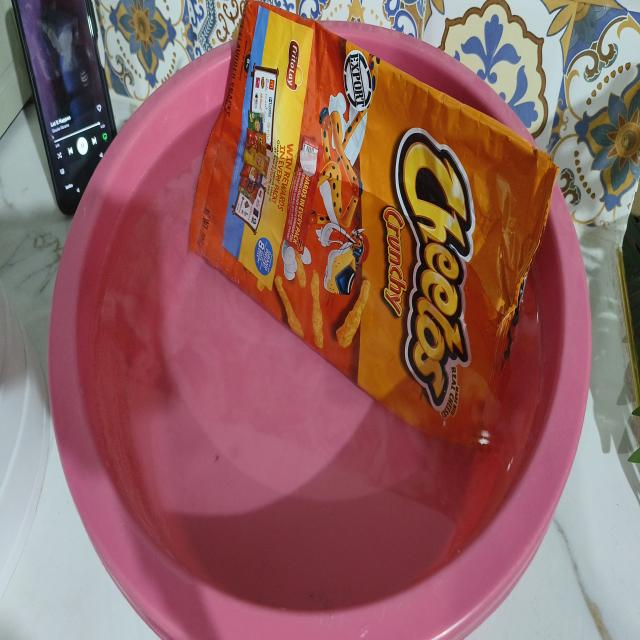Plastic Wrapper: (189, 0, 558, 443)
